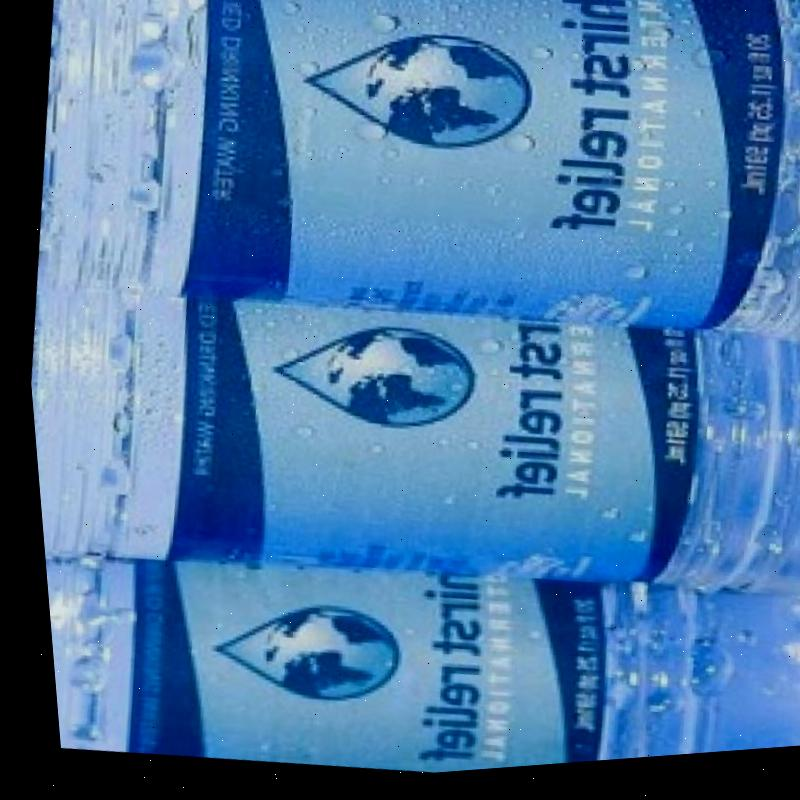botella: (18, 240, 800, 662), (11, 0, 800, 399), (35, 506, 800, 800)
